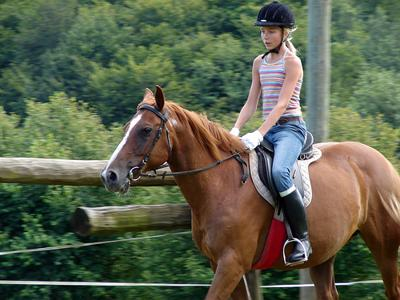person: (226, 2, 314, 266)
